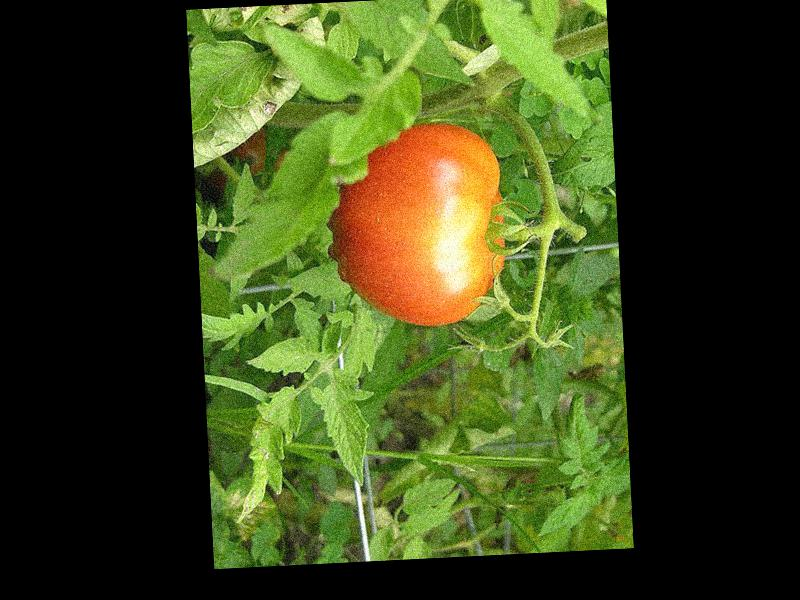Tomato: (330, 121, 510, 328)
